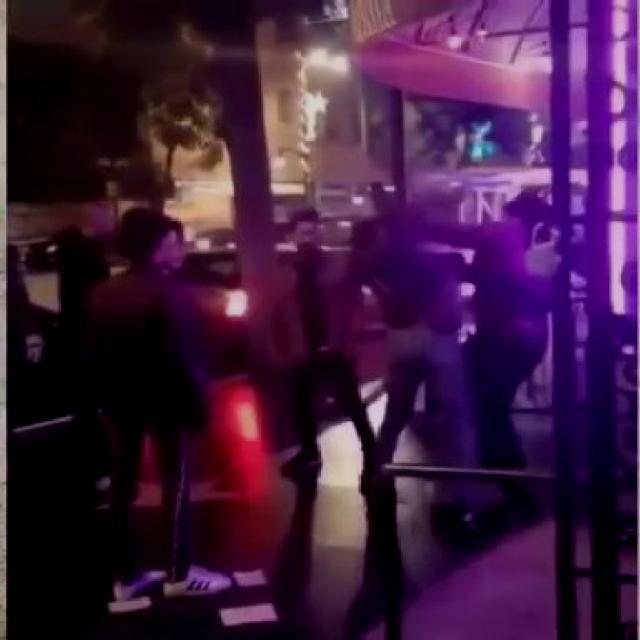fight: (359, 190, 561, 516)
